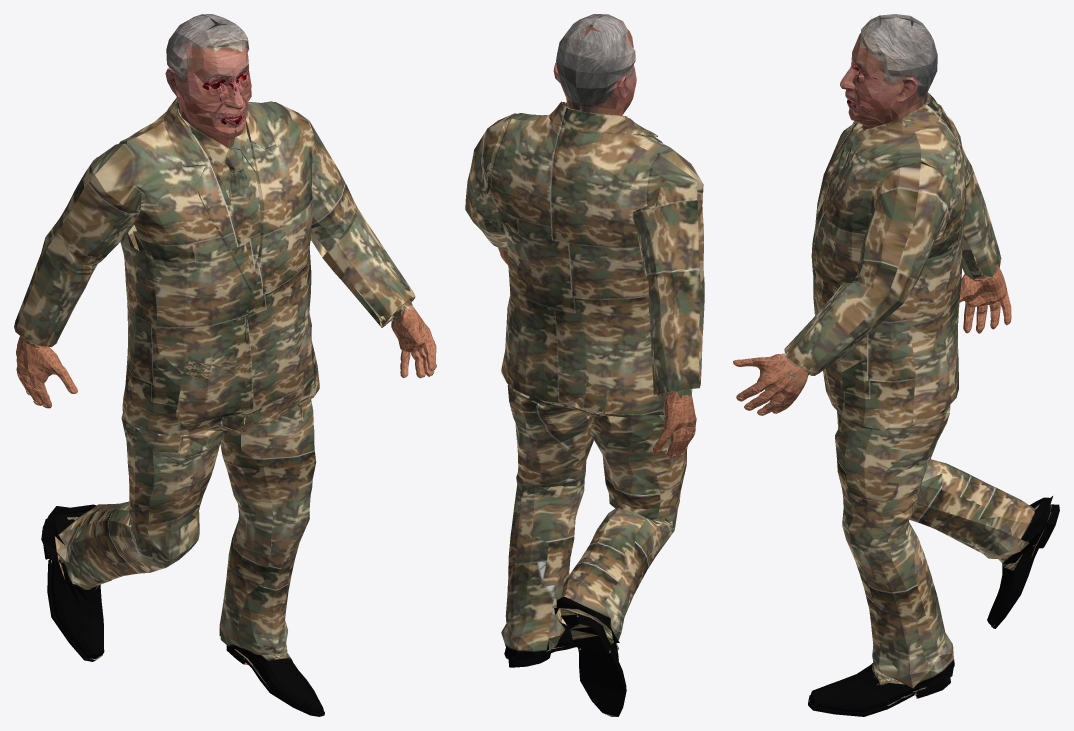
The model's file is zombie_000017.obj.
The picture shows the model from 3 angles, left to right: view 1: azimuth 30°, elevation 25°; view 2: azimuth 150°, elevation 25°; view 3: azimuth 270°, elevation 25°; orthographic projection. The views are drawn at different scales.
Visible parts, largest first — view 1: Suit_coat_orig_9___De, objGeo_Hea_orig_9___D; view 2: Suit_coat_orig_9___De, objGeo_Hea_orig_9___D; view 3: Suit_coat_orig_9___De, objGeo_Hea_orig_9___D.
Part boxes in pixels (<box>): Suit_coat_orig_9___De: <box>14,97,436,716</box>; objGeo_Hea_orig_9___D: <box>165,14,251,147</box>; Suit_coat_orig_9___De: <box>465,101,704,716</box>; objGeo_Hea_orig_9___D: <box>553,14,636,115</box>; Suit_coat_orig_9___De: <box>733,92,1059,716</box>; objGeo_Hea_orig_9___D: <box>840,14,937,129</box>.
Size of the model in its own units: 0.8803 by 1.87 by 0.8376.
